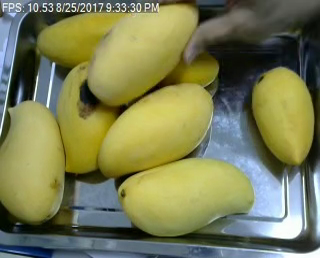Mango: (87, 3, 197, 105), (99, 84, 213, 176), (119, 158, 252, 235), (0, 98, 65, 223), (55, 61, 122, 171), (252, 66, 314, 164), (38, 8, 137, 68), (156, 47, 218, 88)
